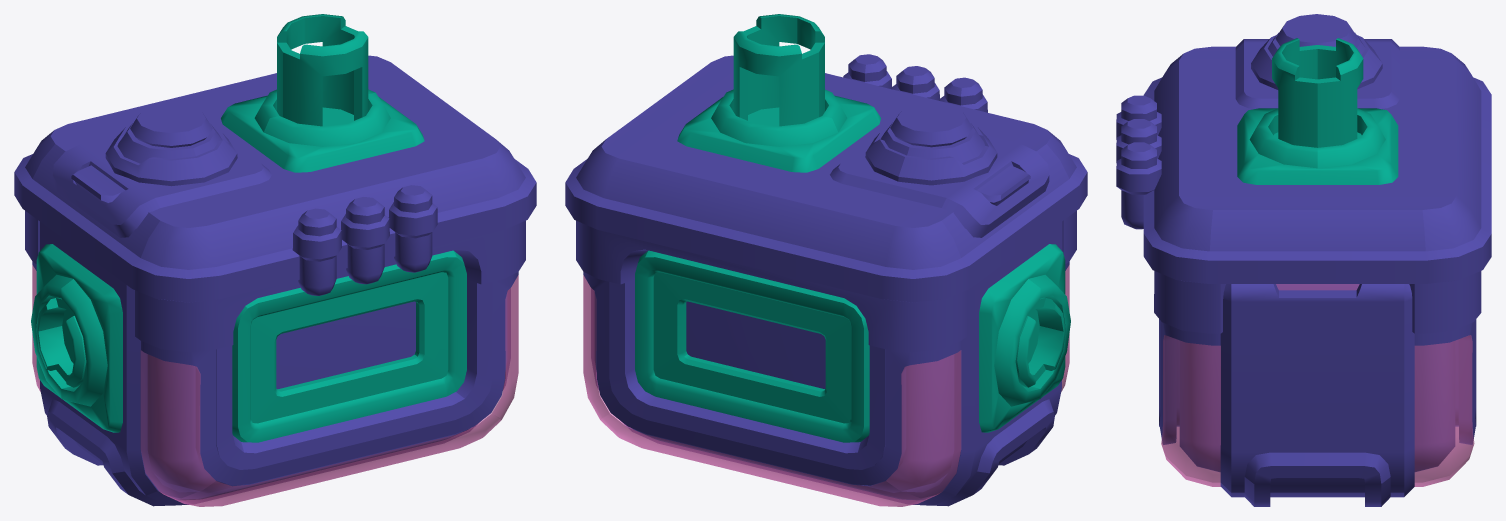
The model's file is obj_containers_chemical_pose0.fbx.
The picture shows the model from 3 angles, left to right: view 1: azimuth 30°, elevation 25°; view 2: azimuth 150°, elevation 25°; view 3: azimuth 270°, elevation 25°; orthographic projection.
Parts seen in each view (by area): view 1: obj_container_chemical_pose0; view 2: obj_container_chemical_pose0; view 3: obj_container_chemical_pose0.
Boxes of the visible parts, x1,y1,x2,y2 form: obj_container_chemical_pose0: (14, 14, 536, 506); obj_container_chemical_pose0: (565, 14, 1087, 506); obj_container_chemical_pose0: (1116, 14, 1491, 506).
Size of the model in its own units: 4.42 by 4.13 by 3.45.
